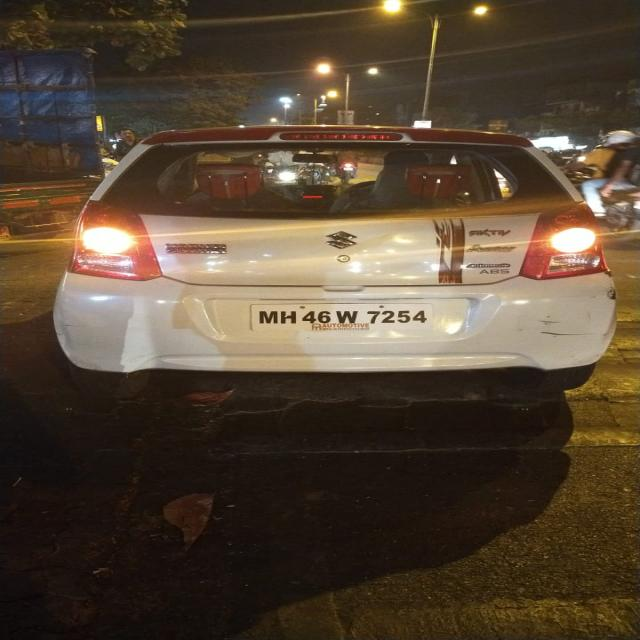Number-Plate: (252, 298, 438, 326)
